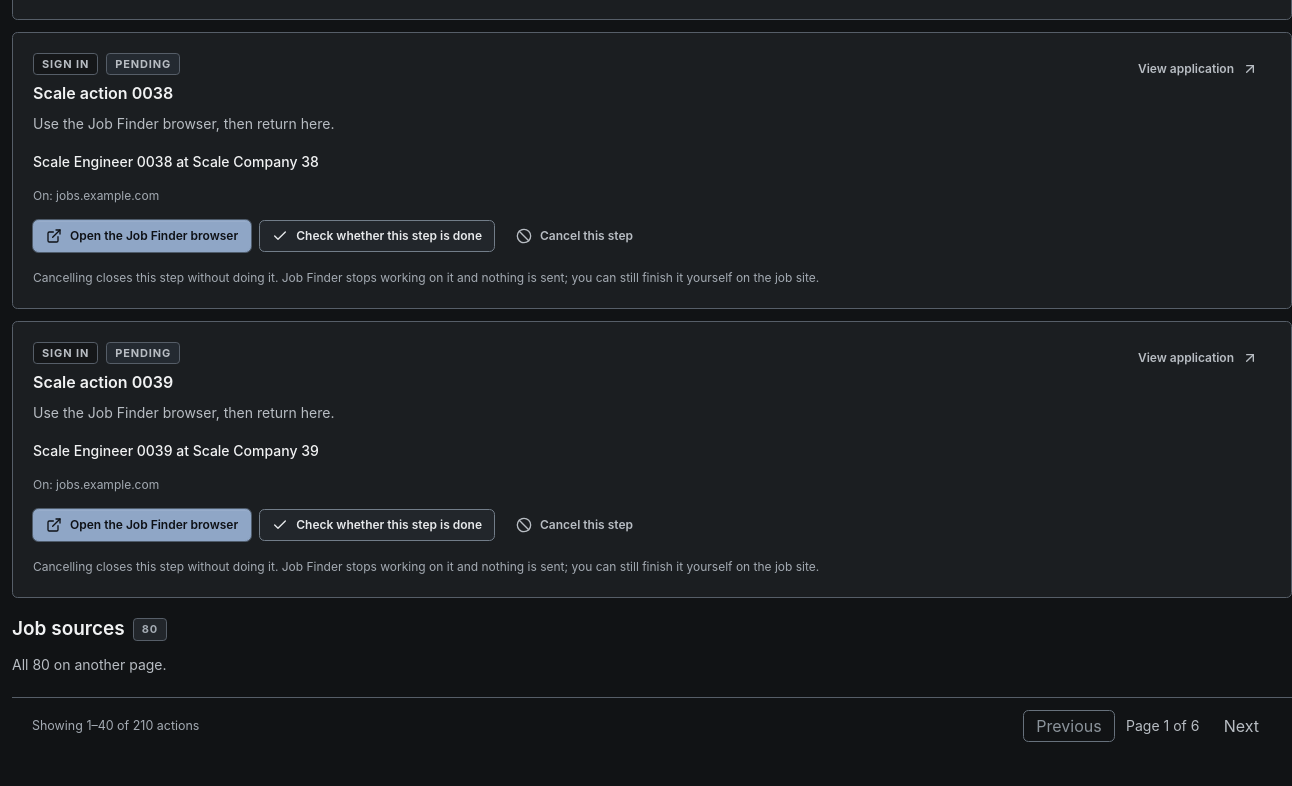
Test case: ActionsScreen workspace scale › pages through every action without losing any and bounds each page
(page scrolled)
Click the button with aria-label "Next page": (1241, 726) 1211,710 -> 1272,742
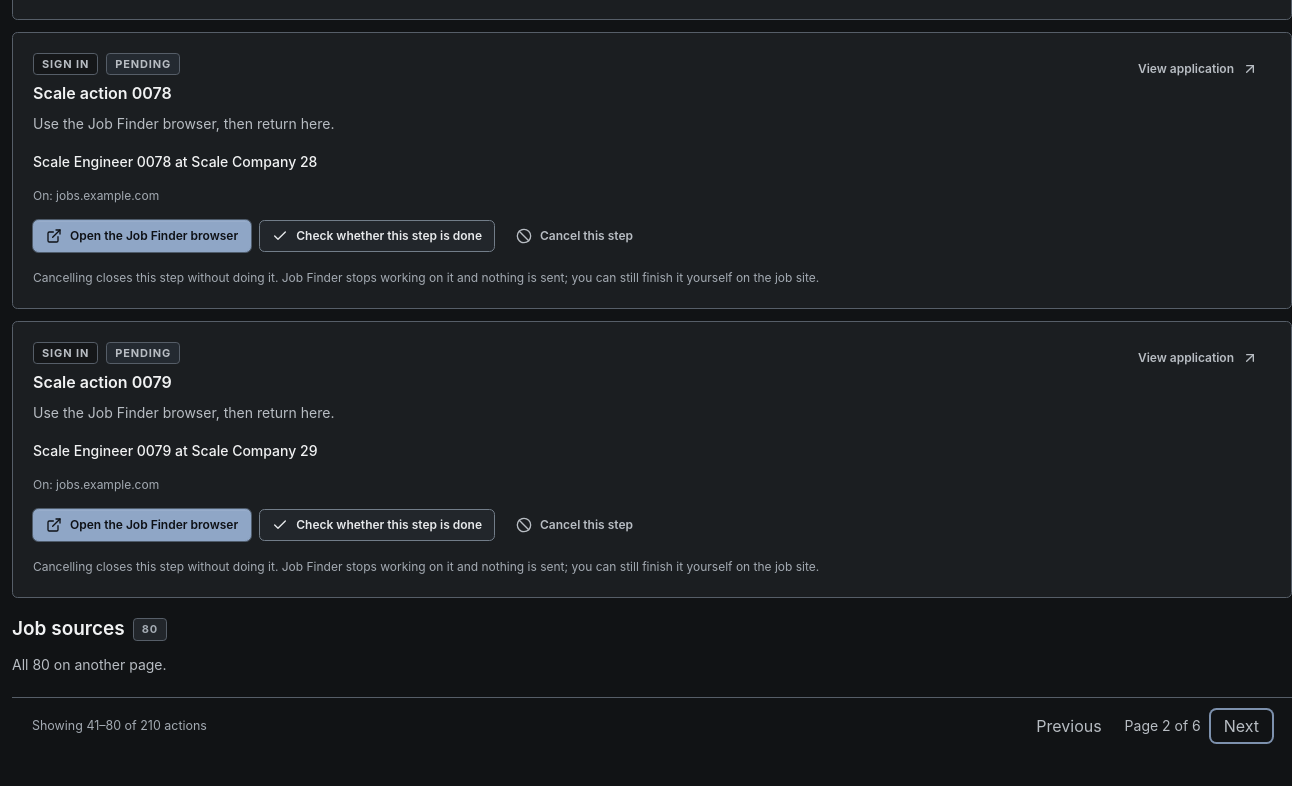
Click the button with aria-label "Next page": (1241, 726) 1211,710 -> 1272,742
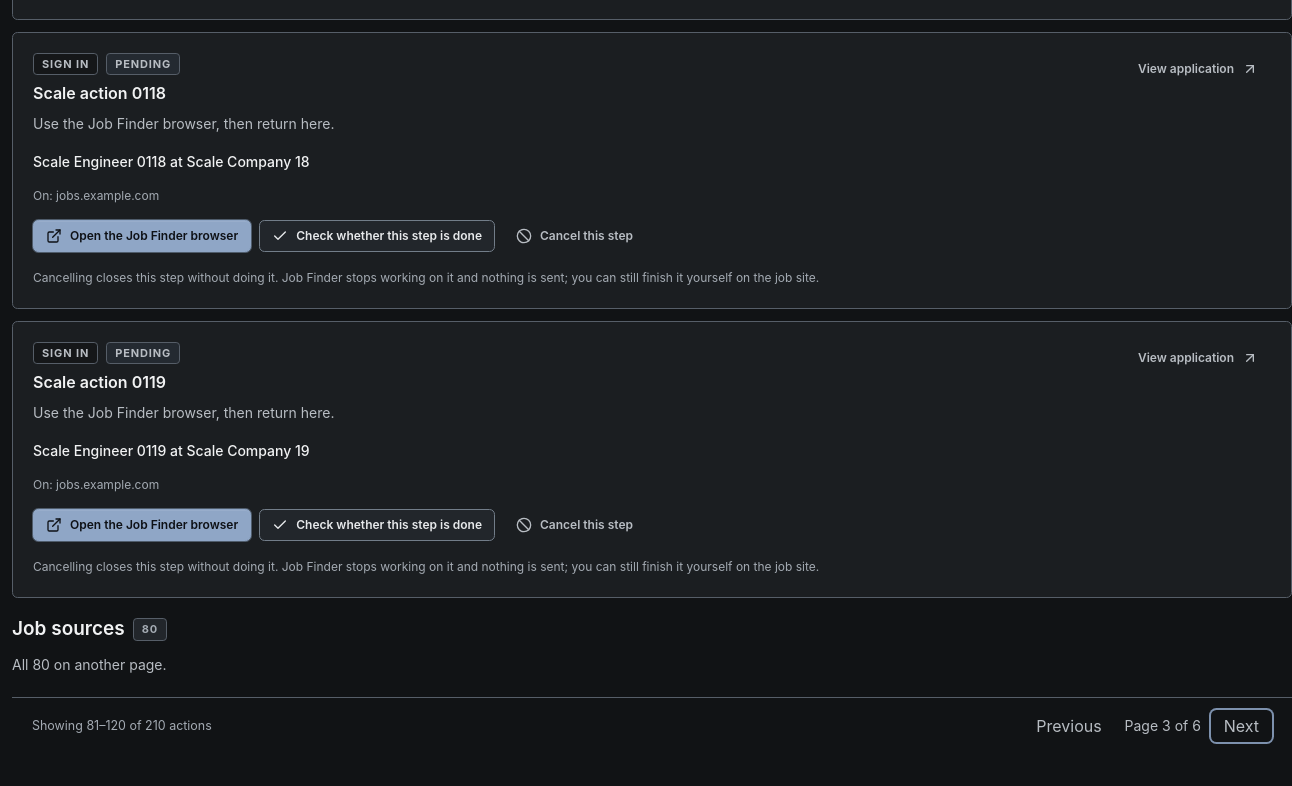
Click the button with aria-label "Next page": (1241, 726) 1211,710 -> 1272,742
(page scrolled)
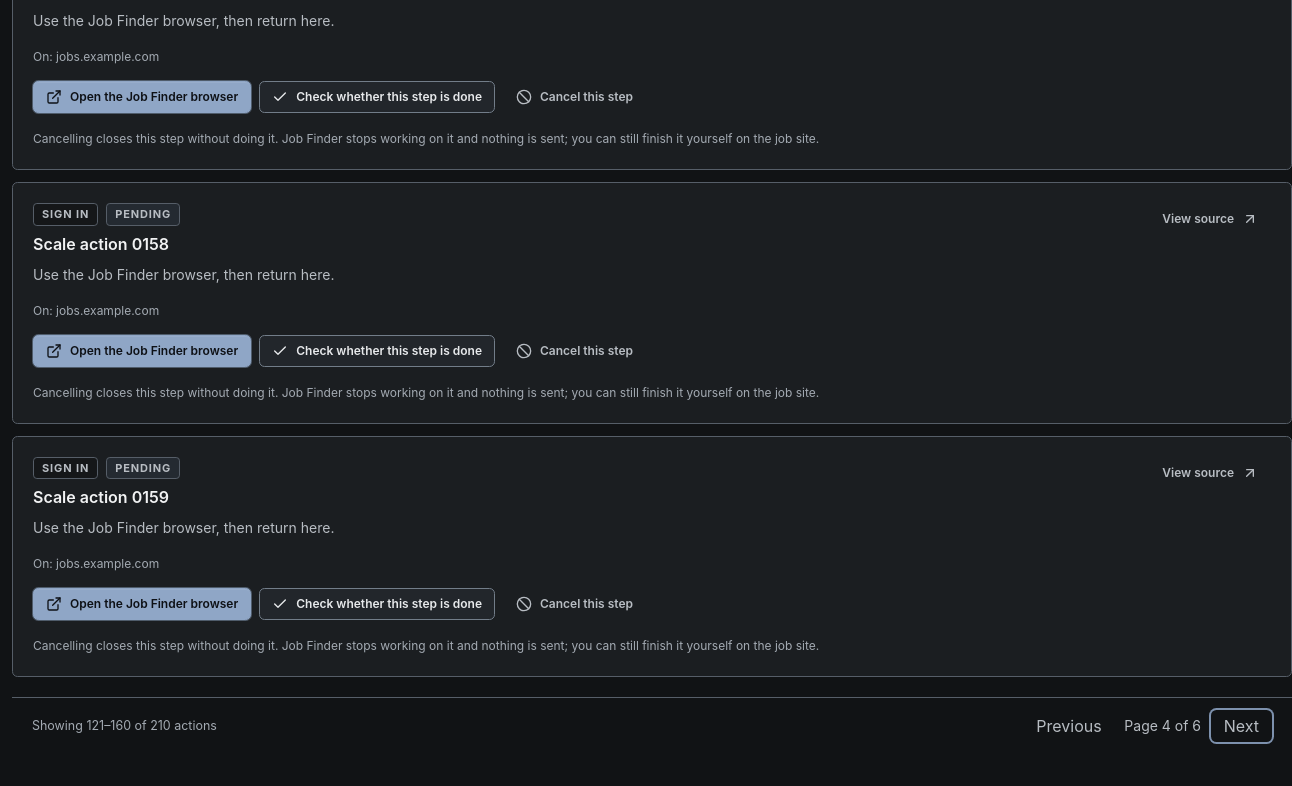
Click the button with aria-label "Next page": (1241, 726) 1211,710 -> 1272,742
(page scrolled)
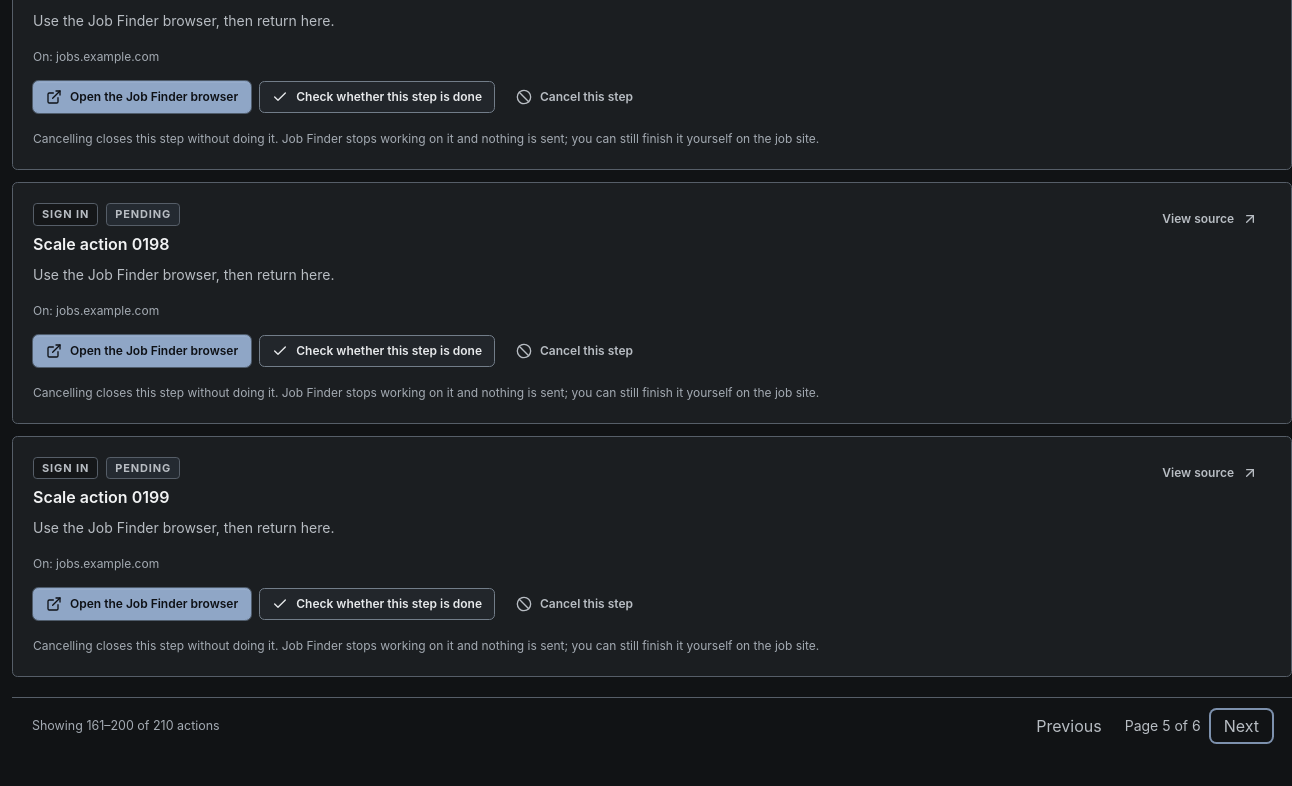
Click the button with aria-label "Next page": (1241, 726) 1211,710 -> 1272,742
(page scrolled)
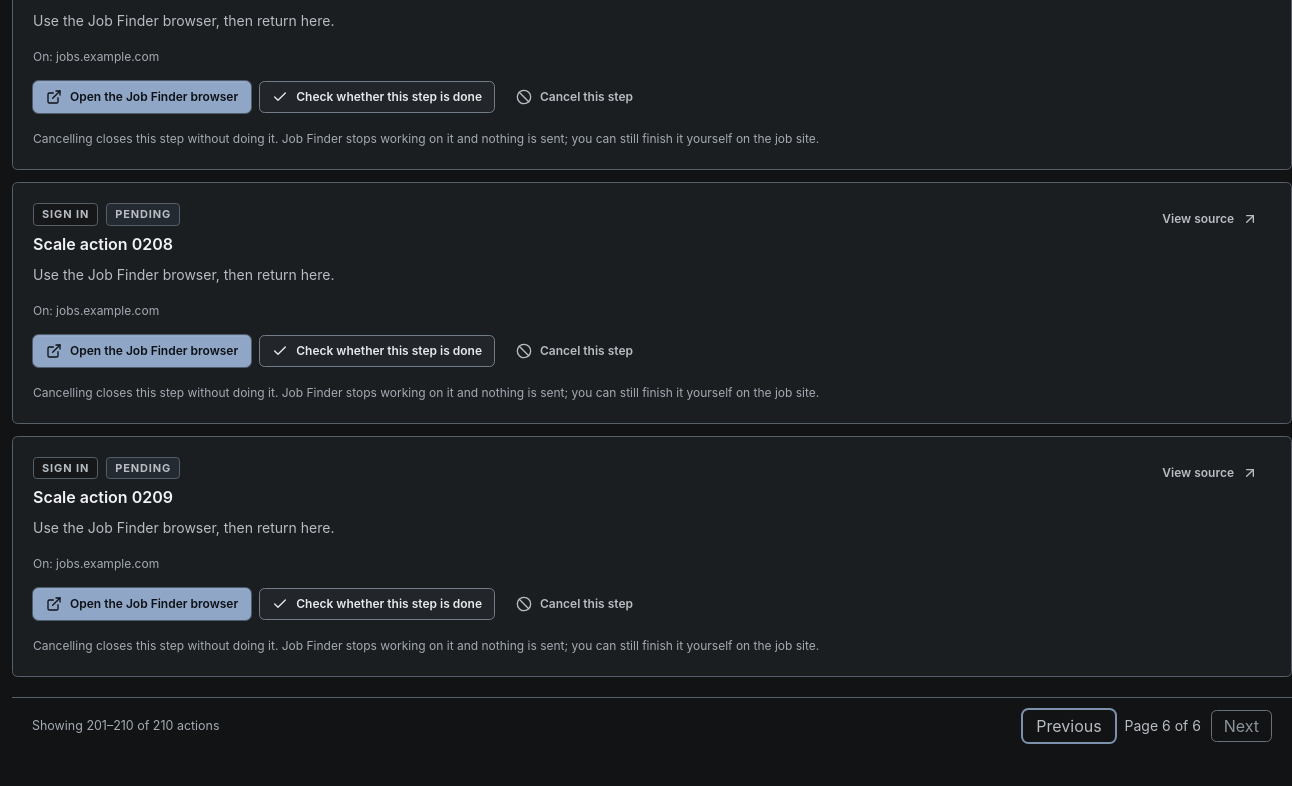
Now the button with aria-label "Previous page" is enabled, box 1023,710 -> 1115,742
Now the button with aria-label "Next page" is disabled, box 1211,710 -> 1272,742
